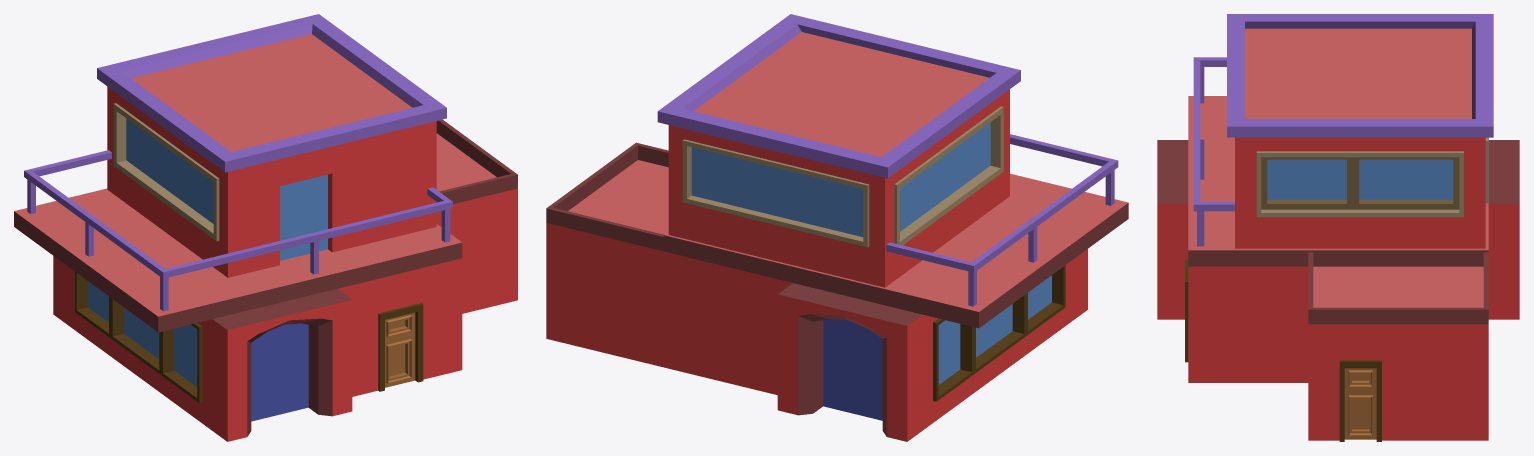
The model's file is House-1.fbx.
3 views of the same model, side by side, from view 1: azimuth 30°, elevation 25°; view 2: azimuth 150°, elevation 25°; view 3: azimuth 270°, elevation 25° (orthographic). The views are drawn at different scales.
Visible parts, largest first — view 1: House-1; view 2: House-1; view 3: House-1.
Part boxes in pixels (<box>): House-1: <box>14,14,517,441</box>; House-1: <box>546,14,1128,441</box>; House-1: <box>1157,14,1519,441</box>.
Size of the model in its own units: 26.74 by 15.08 by 19.19.
